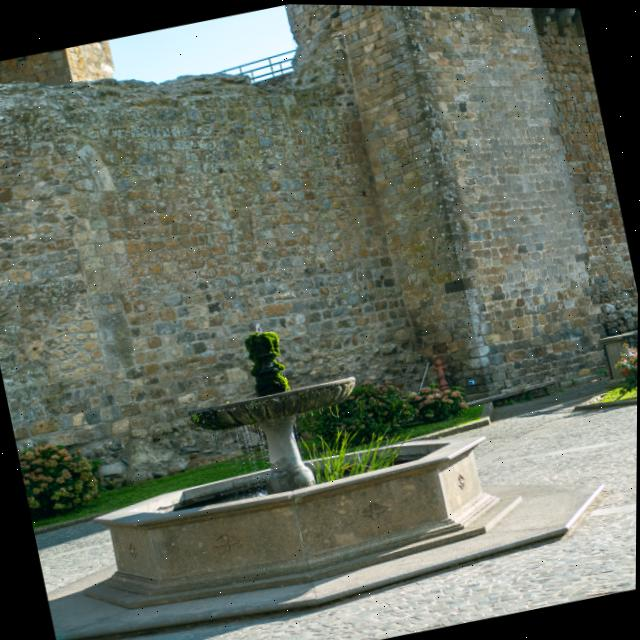building: (0, 0, 640, 507)
